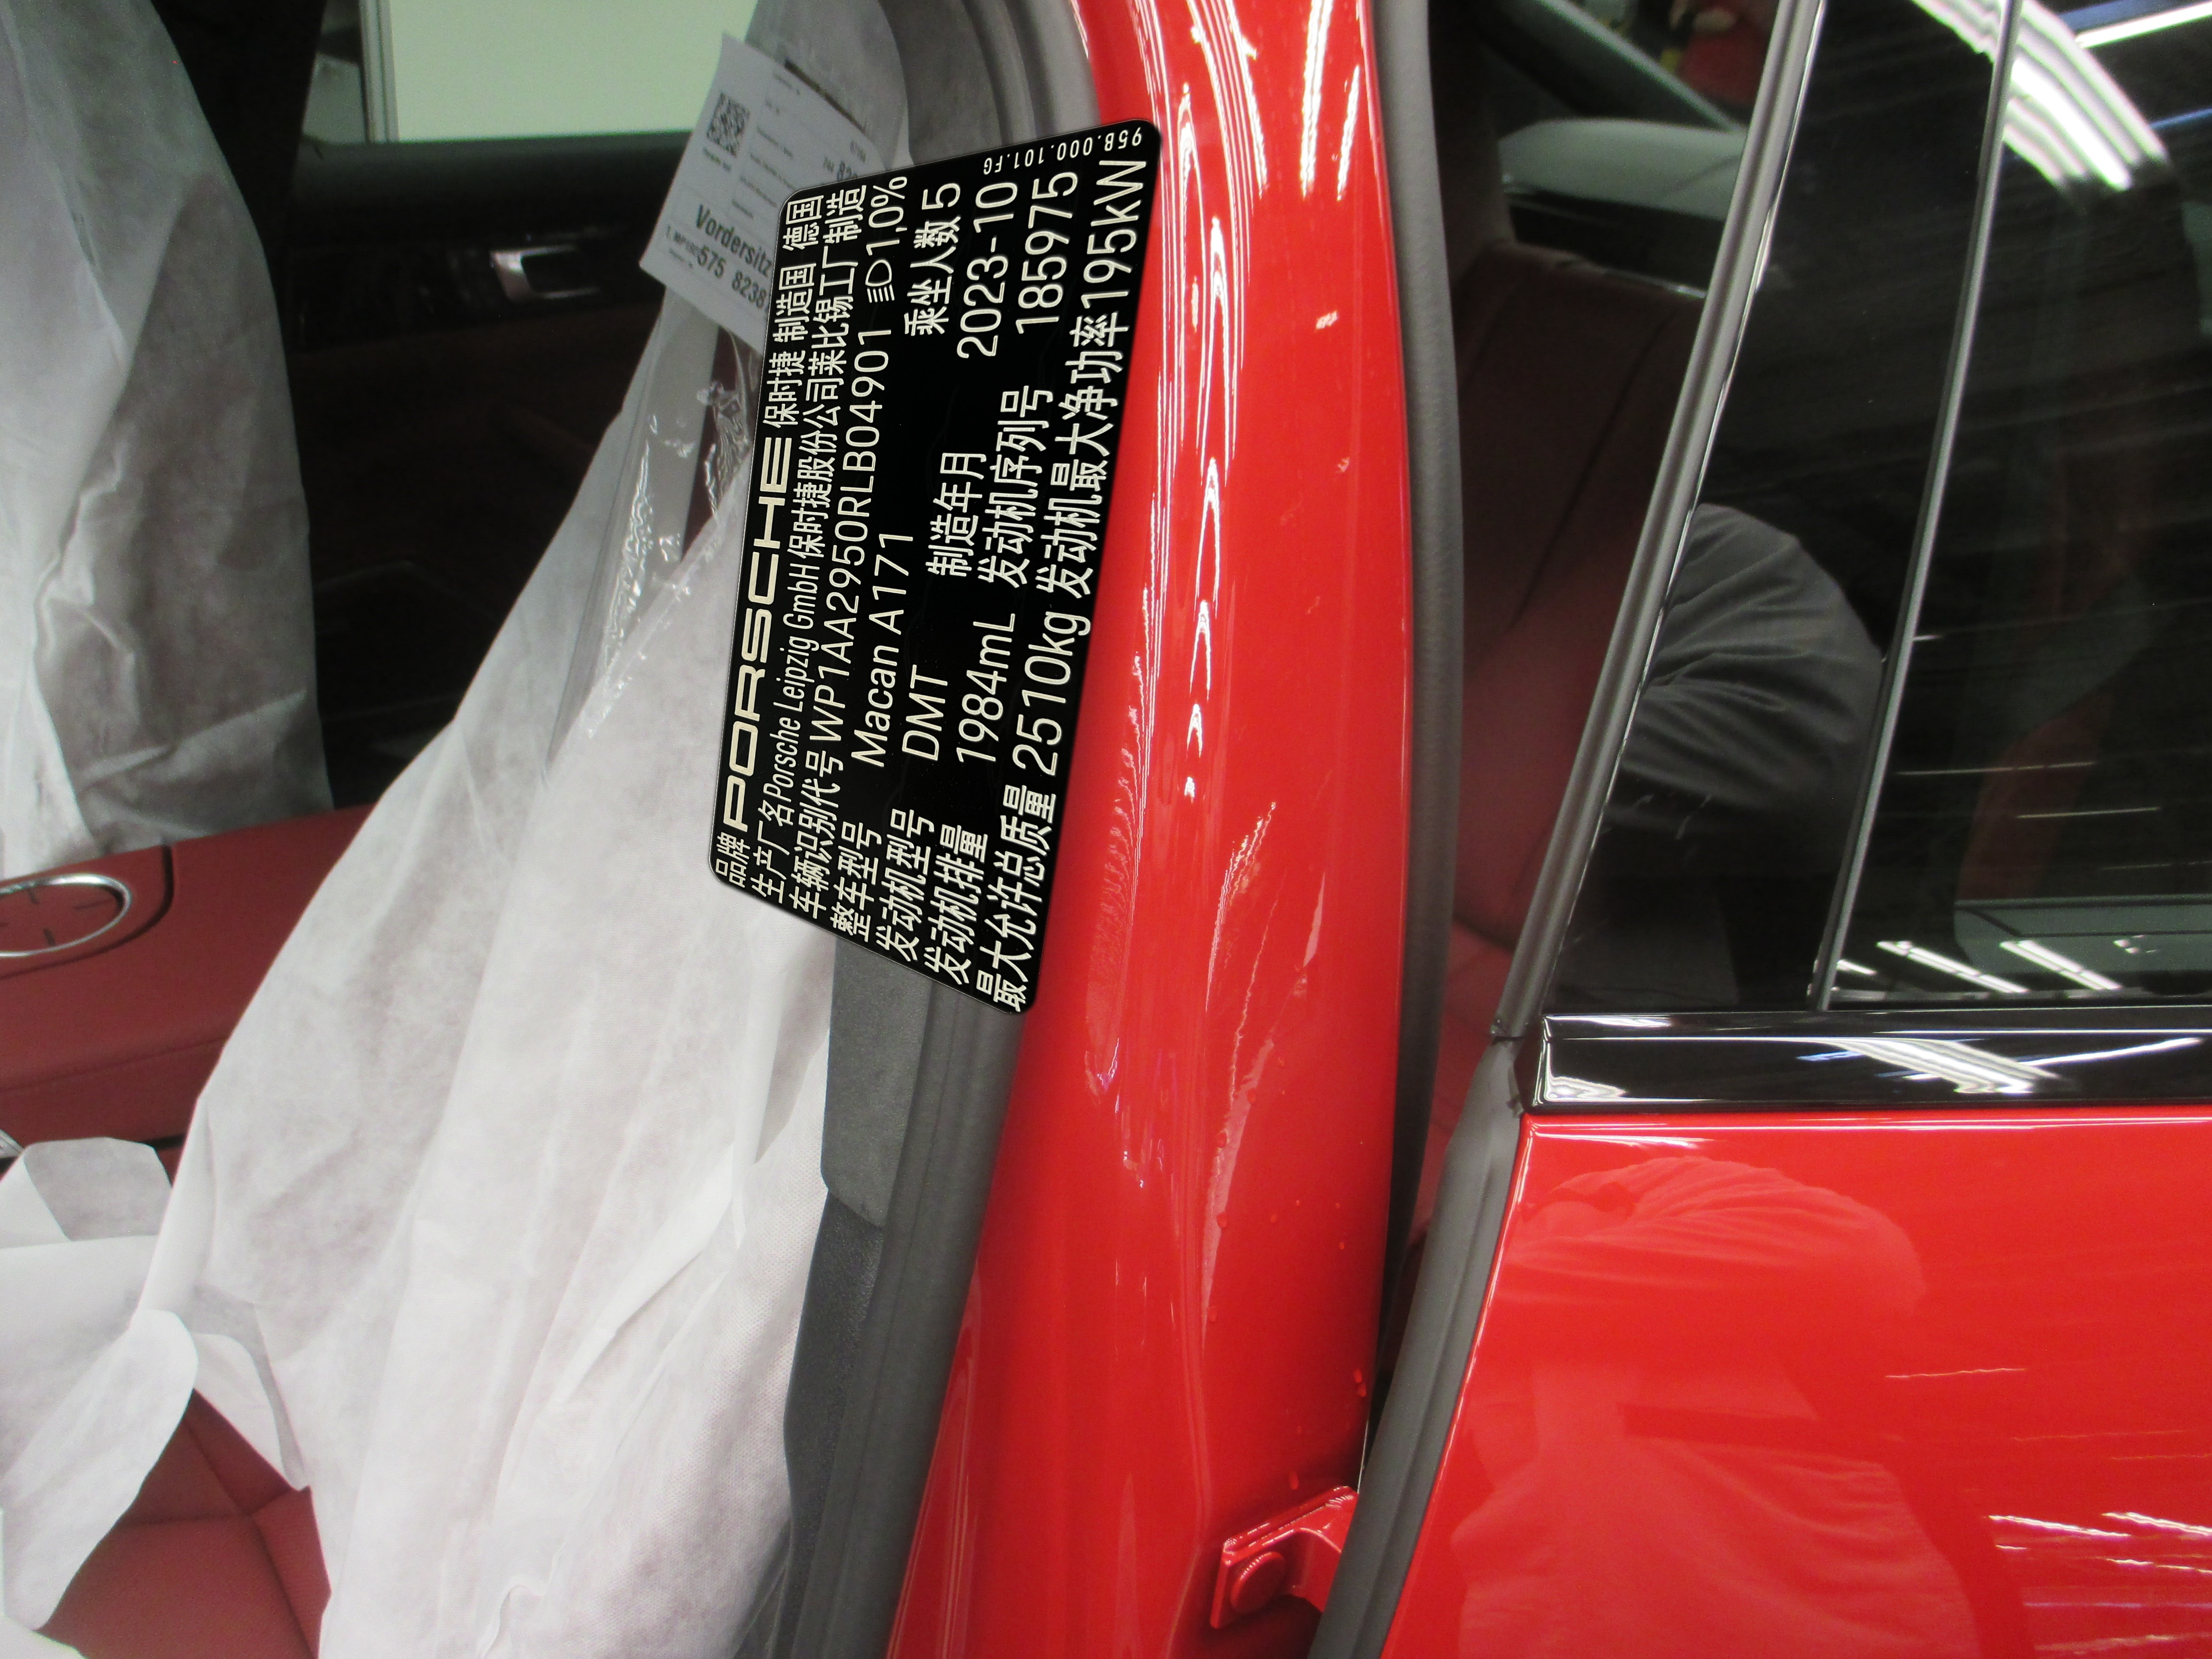Typlabel-China: (709, 118, 1162, 1014)
